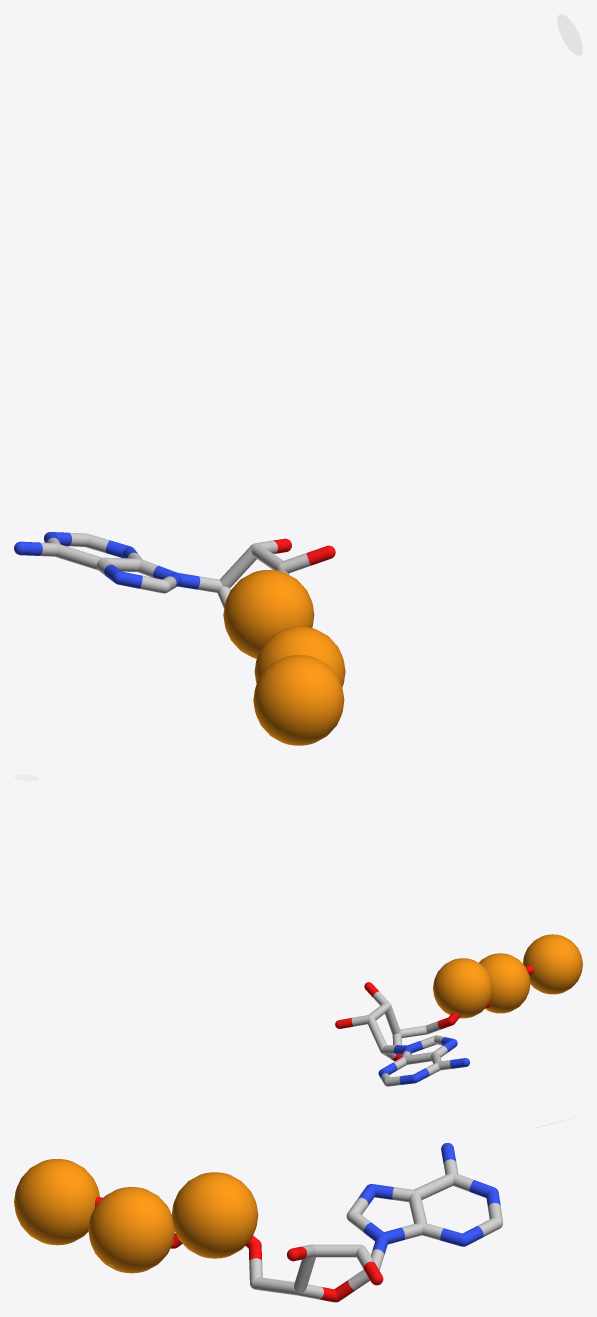
File: atp.fbx
3 renders of one model, top to bottom at view 1: azimuth 30°, elevation 25°; view 2: azimuth 150°, elevation 25°; view 3: azimuth 270°, elevation 25°, orthographic. The views are drawn at different scales.
Visible parts, largest first — view 1: Phosp_Donor, Sphere_2, Sphere; view 2: Sphere_2, Phosp_Donor, Sphere; view 3: Sphere_2, Sphere, Phosp_Donor, Cylinder_19, Cylinder_14, Cylinder_27, Cylinder_16, Cylinder_28, Cylinder_53, Cylinder_13, Cylinder_33, Cylinder_17 (+9 smaller).
Part boxes in pixels (x1,y1,x2,y2): Phosp_Donor: (253,655,344,745); Sphere_2: (223,570,314,658); Sphere: (254,626,345,687); Sphere_2: (433,958,493,1018); Phosp_Donor: (523,934,582,994); Sphere: (479,953,530,1013); Sphere_2: (171,1172,258,1258); Sphere: (88,1187,174,1273); Phosp_Donor: (14,1159,99,1245); Cylinder_19: (312,1244,360,1257); Cylinder_14: (253,1277,297,1295); Cylinder_27: (414,1173,453,1199); Cylinder_16: (294,1257,315,1293); Cylinder_28: (408,1192,426,1223); Cylinder_53: (440,1228,463,1246); Cylinder_13: (249,1258,262,1282); Cylinder_33: (422,1223,443,1240); Cylinder_17: (348,1269,369,1290).
Size of the model in its own units: 21.1 by 13.52 by 17.62.
